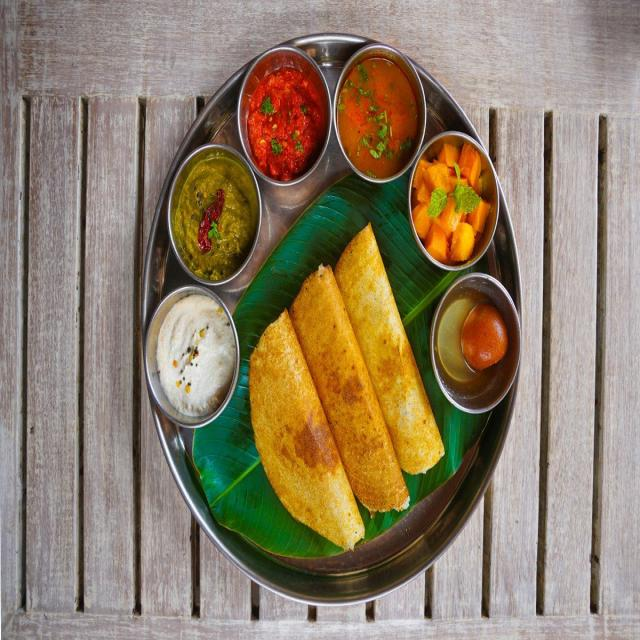chutney: (158, 290, 236, 421)
dosa: (288, 264, 408, 519), (250, 310, 366, 555), (333, 220, 443, 473)
